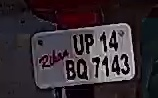1: (102, 54, 110, 80), (99, 30, 107, 54)
3: (119, 51, 130, 76)
4: (110, 54, 121, 79), (109, 29, 119, 53)
7: (92, 55, 102, 82)
B: (64, 60, 76, 82)
P: (84, 30, 95, 55)
Q: (76, 59, 89, 81)
U: (71, 32, 84, 57)
